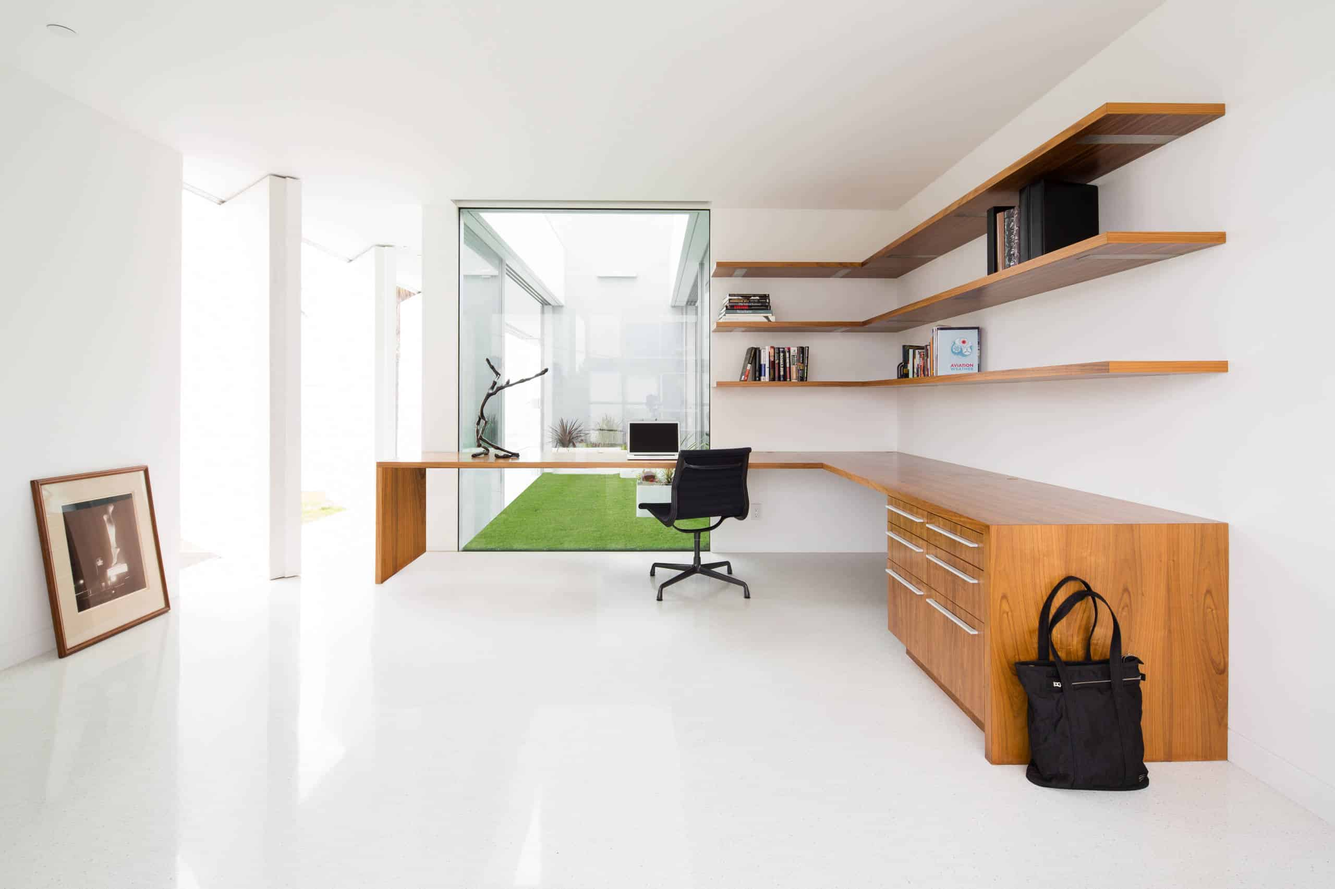not a gesture sign: (148, 673, 875, 862), (478, 212, 708, 562), (1027, 590, 1165, 803)
